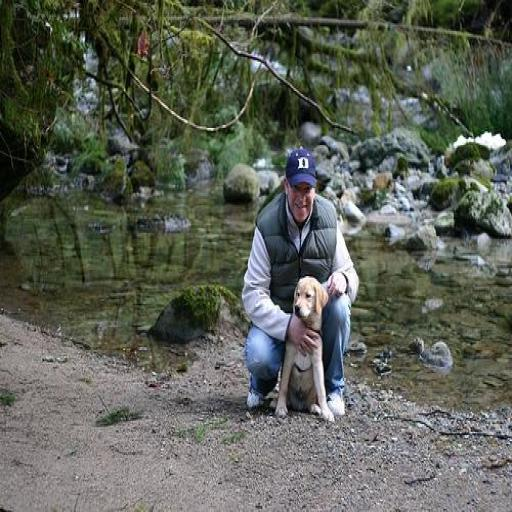dog_face: (290, 274, 328, 321)
